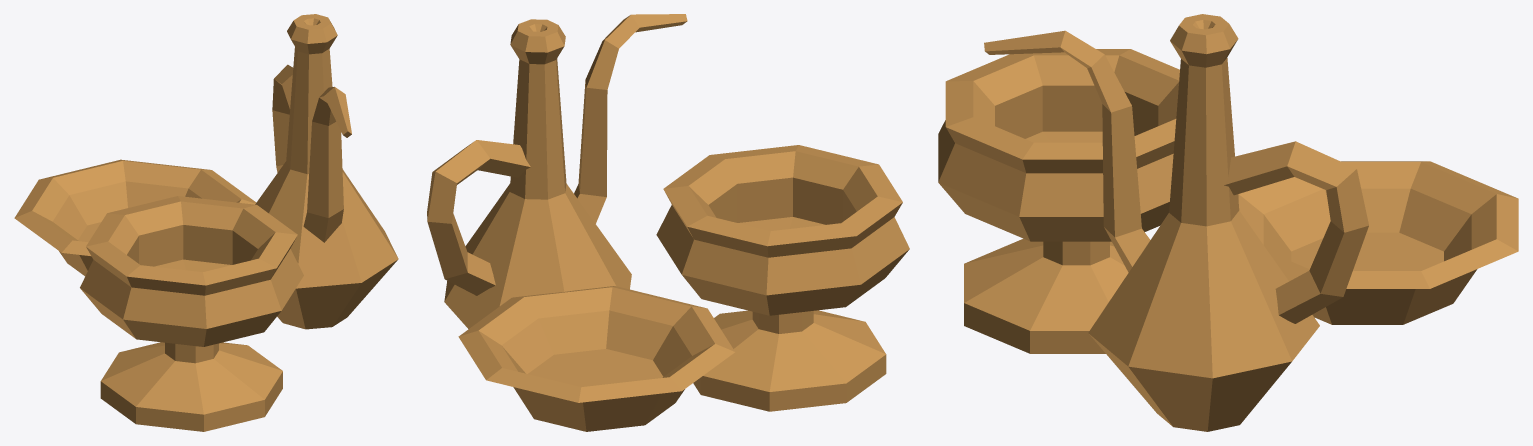
The model's file is SM_Prop_Gold_Plates_Preset_08.glb.
3 views of the same model, side by side, from view 1: azimuth 30°, elevation 25°; view 2: azimuth 150°, elevation 25°; view 3: azimuth 270°, elevation 25° (orthographic). The views are drawn at different scales.
Visible parts, largest first — view 1: SM_Prop_Gold_Plates_Preset_08; view 2: SM_Prop_Gold_Plates_Preset_08; view 3: SM_Prop_Gold_Plates_Preset_08.
Boxes of the visible parts, bbox=[...] form: SM_Prop_Gold_Plates_Preset_08: bbox=[14, 14, 398, 431]; SM_Prop_Gold_Plates_Preset_08: bbox=[427, 14, 909, 431]; SM_Prop_Gold_Plates_Preset_08: bbox=[938, 14, 1518, 431].
Size of the model in its own units: 0.6629 by 0.558 by 0.7516.
Materials: 1 (1 with a texture image).
